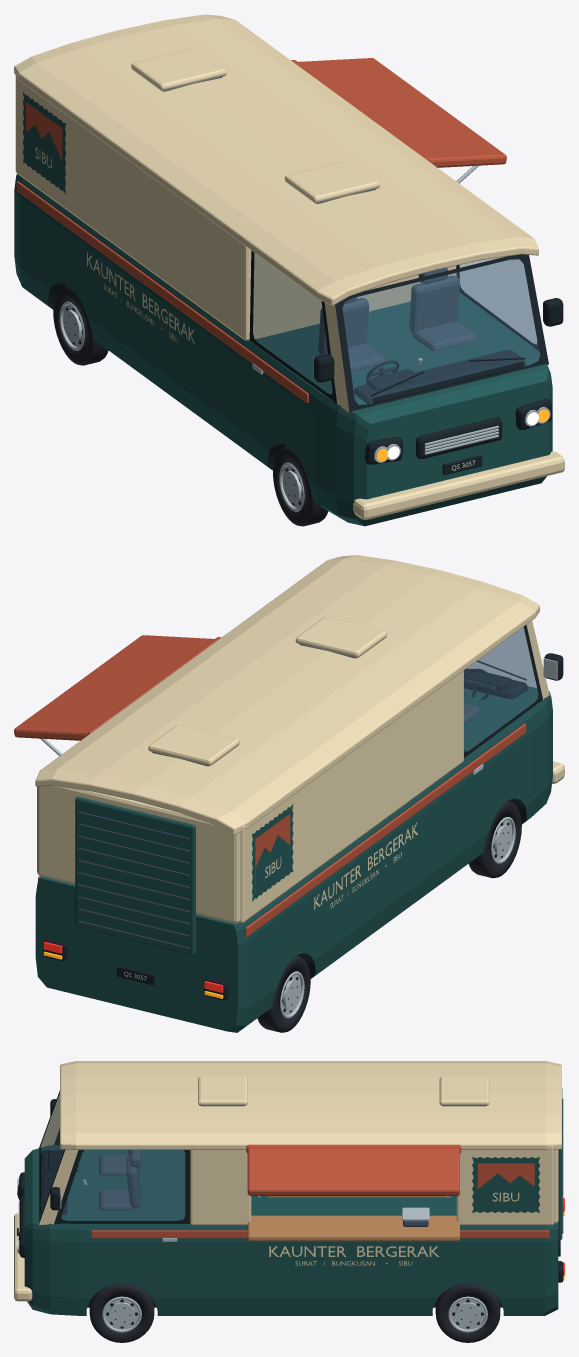
3 views of the same model, one above another, from view 1: azimuth 30°, elevation 25°; view 2: azimuth 150°, elevation 25°; view 3: azimuth 270°, elevation 25° (orthographic). The views are drawn at different scales.
Visible parts, largest first — view 1: Sibu Postal Stepvan; view 2: Sibu Postal Stepvan; view 3: Sibu Postal Stepvan.
Boxes of the visible parts, x1,y1,x2,y2 form: Sibu Postal Stepvan: (14, 14, 564, 526); Sibu Postal Stepvan: (14, 555, 564, 1032); Sibu Postal Stepvan: (14, 1061, 564, 1342).
Bounding box in the file's own units: 3.23 × 2.69 × 6.23.
